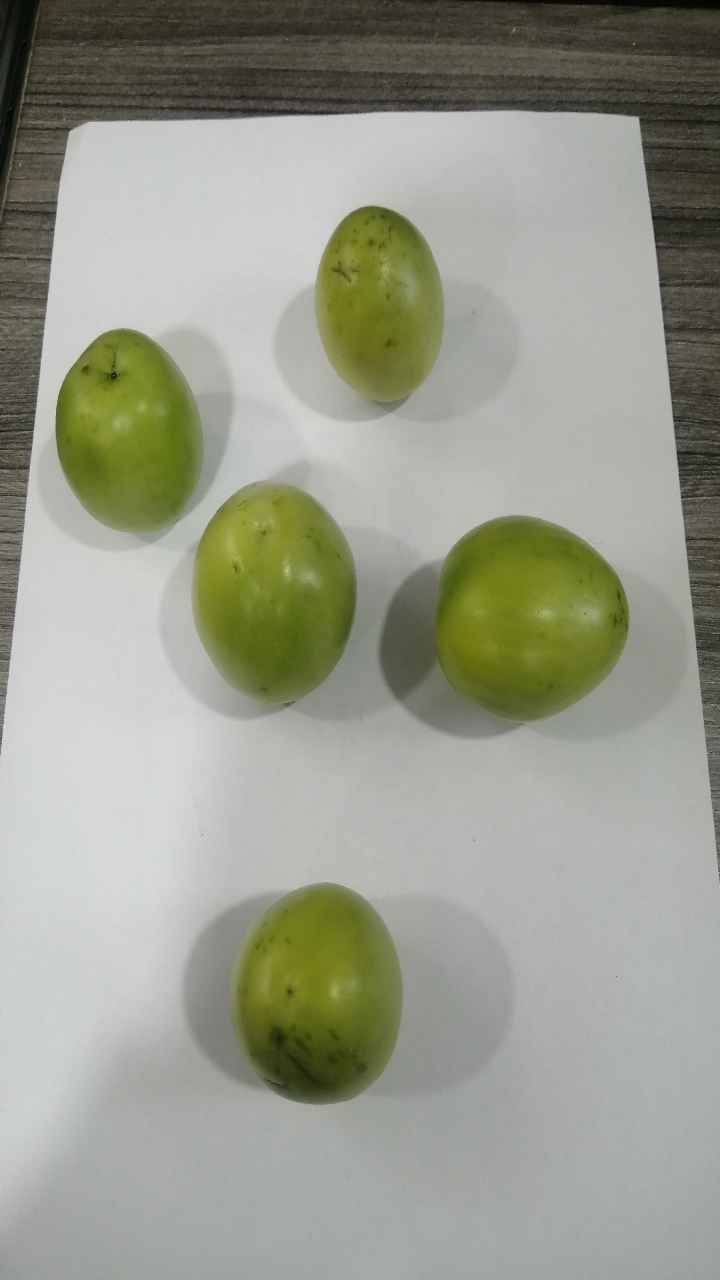tomateVerde: (184, 846, 429, 1125), (417, 502, 658, 731), (192, 465, 378, 745), (28, 312, 226, 554), (292, 175, 458, 420)
